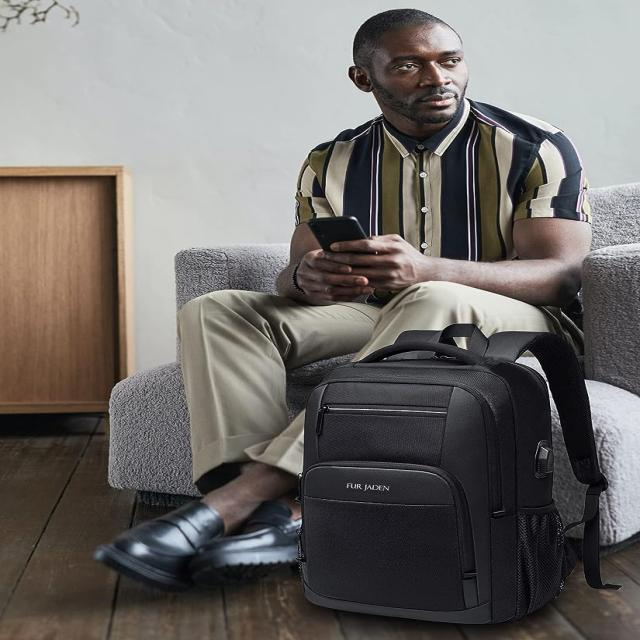backpack: (296, 324, 622, 627)
